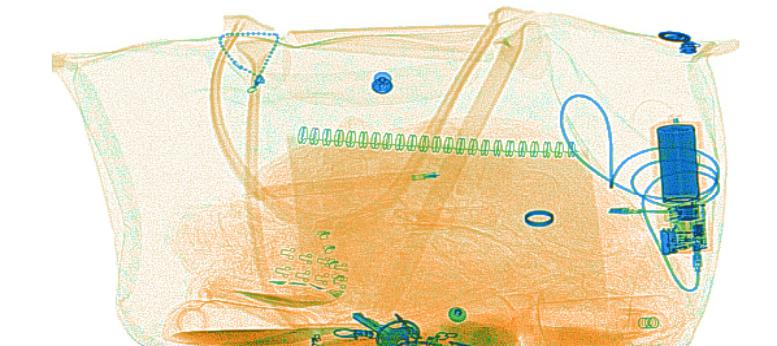battery: (656, 125, 701, 203)
plasticBottleWithaNozzle: (515, 290, 686, 341)
